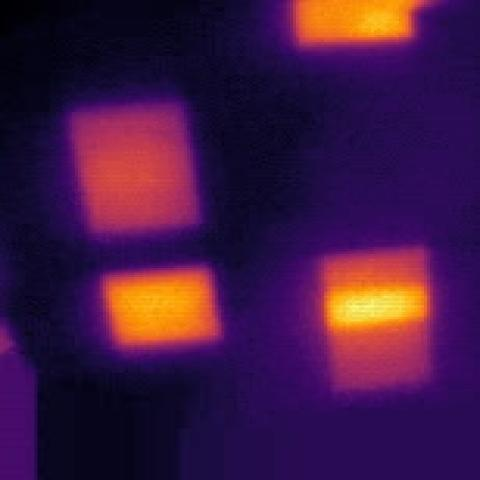fault: (58, 103, 217, 237), (305, 249, 444, 386), (95, 262, 222, 355), (284, 0, 418, 43)
